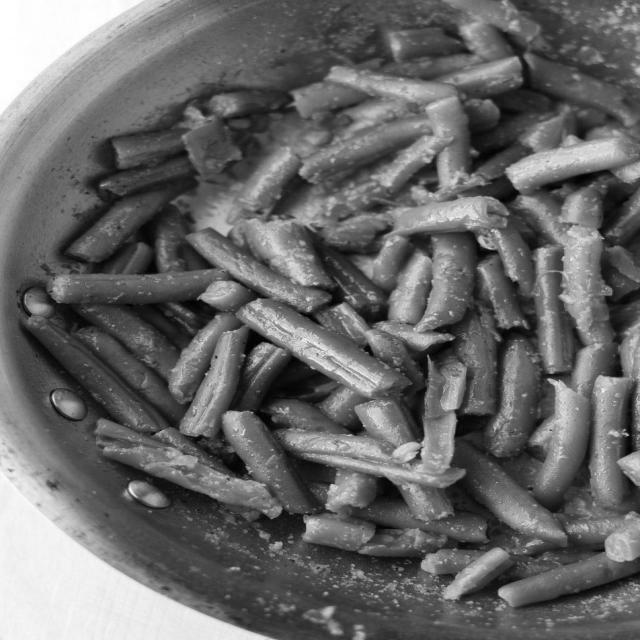Beans: (31, 0, 639, 610)
